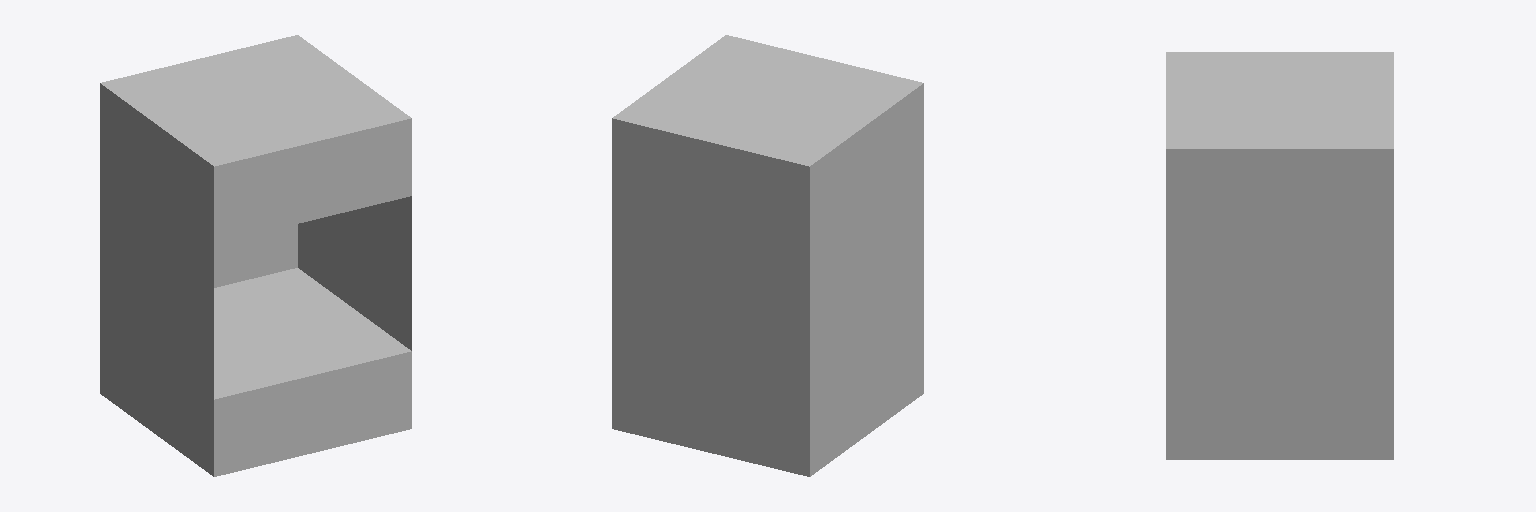
The model's file is elevator-lr.obj.
The picture shows the model from 3 angles: view 1: azimuth 30°, elevation 25°; view 2: azimuth 150°, elevation 25°; view 3: azimuth 270°, elevation 25°; orthographic projection.
Parts seen in each view (by area): view 1: Bullet; view 2: Bullet; view 3: Bullet.
Boxes of the visible parts, x1=… form: Bullet: x1=100, y1=35, x2=411, y2=476; Bullet: x1=612, y1=35, x2=923, y2=476; Bullet: x1=1166, y1=52, x2=1393, y2=459.
Bounding box in the file's own units: 4 × 6 × 4.